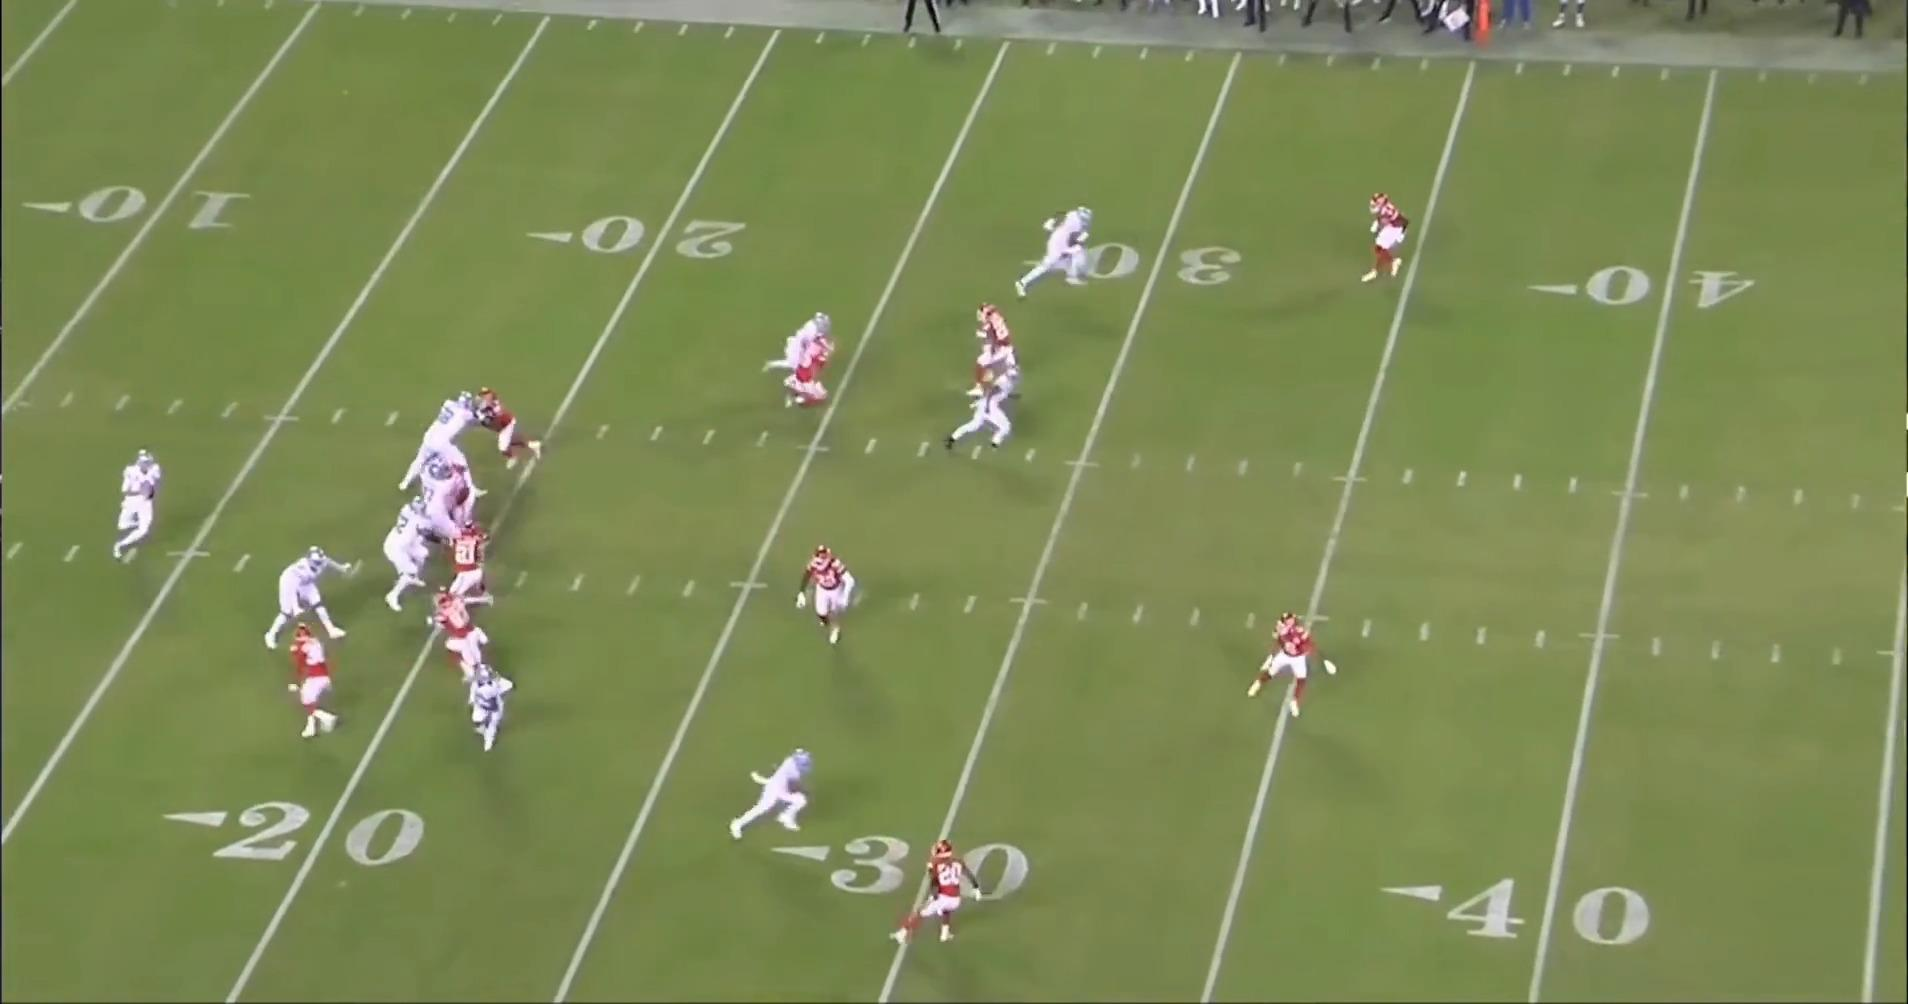player: (262, 544, 363, 655), (888, 834, 982, 946), (1250, 604, 1340, 718), (391, 387, 481, 499), (722, 749, 817, 847), (947, 357, 1023, 460), (1021, 207, 1106, 299), (387, 500, 452, 620), (421, 592, 498, 690), (106, 450, 169, 569), (803, 543, 867, 652), (424, 457, 493, 558), (769, 308, 839, 407), (281, 631, 339, 746), (456, 654, 517, 762), (476, 383, 547, 470), (973, 302, 1025, 399), (777, 332, 839, 413), (412, 457, 468, 542), (1360, 187, 1409, 283), (441, 525, 489, 613)
ref: (896, 2, 950, 39)
